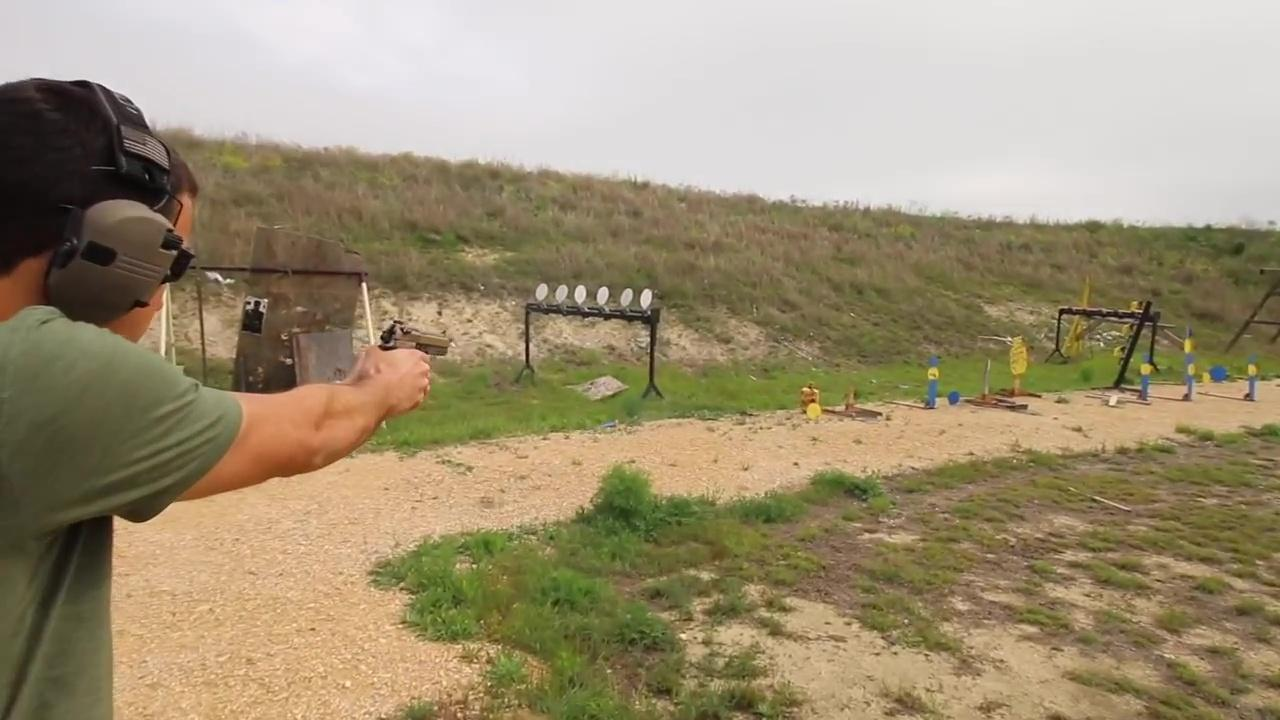weapon: (371, 317, 454, 366)
